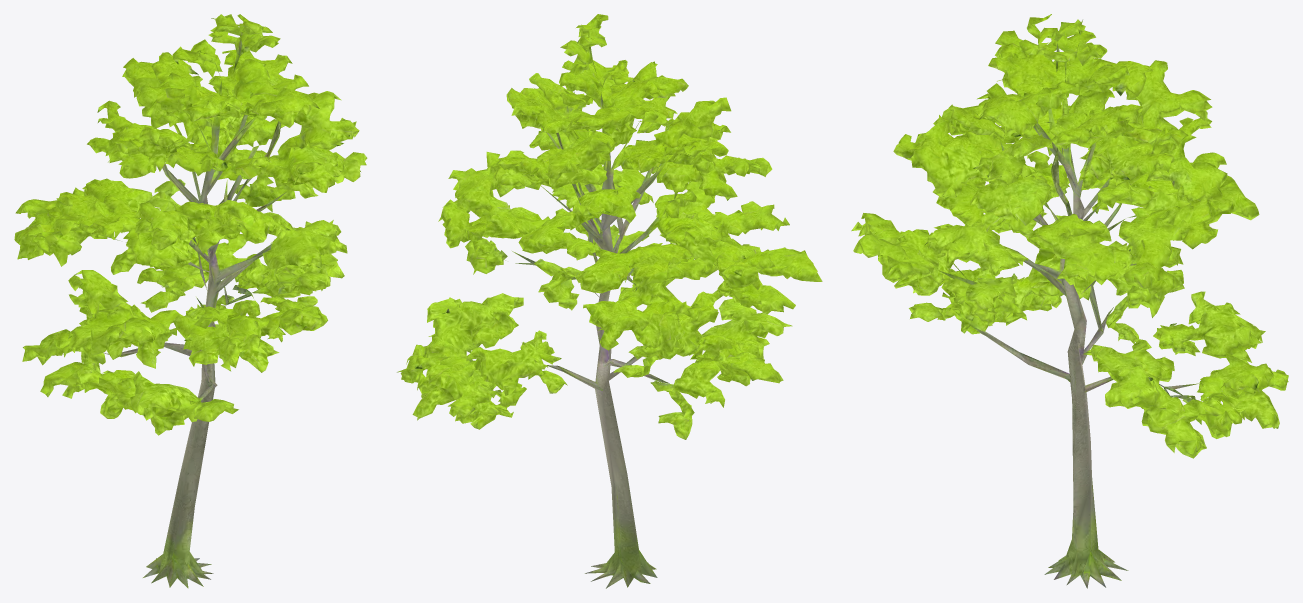
The model's file is young-hornbeam.glb.
3 views of the same model, side by side, from view 1: azimuth 30°, elevation 25°; view 2: azimuth 150°, elevation 25°; view 3: azimuth 270°, elevation 25° (orthographic). The views are drawn at different scales.
Visible parts, largest first — view 1: Mesh_0; view 2: Mesh_0; view 3: Mesh_0.
Part boxes in pixels (x1=…): Mesh_0: x1=14, y1=14, x2=367, y2=588; Mesh_0: x1=397, y1=14, x2=822, y2=588; Mesh_0: x1=851, y1=14, x2=1288, y2=588.
Bounding box in the file's own units: 1.57 × 2.5 × 1.71.
1 material, 1 textured.
